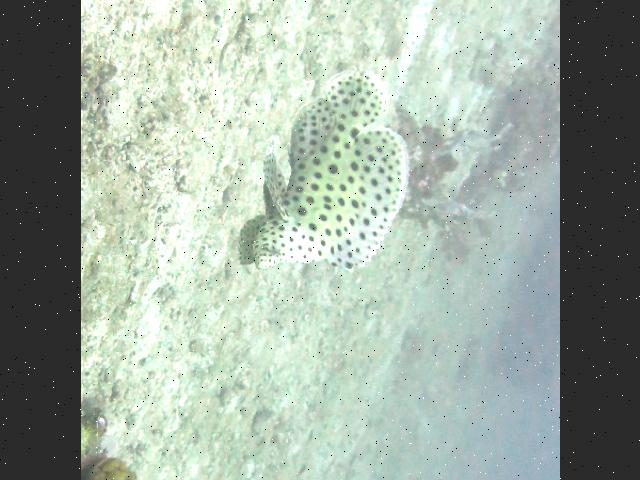Mulut: (250, 236, 290, 280)
Sirip Anal: (283, 100, 335, 160)
Sirip Dada: (260, 151, 292, 223), (228, 216, 270, 270)
Sirip Ekor: (315, 64, 397, 128)
Sirip Punggung: (319, 124, 416, 276)
